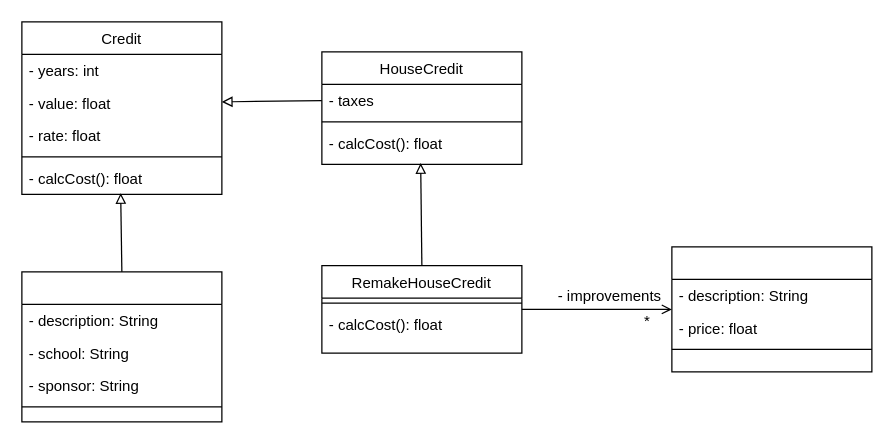
Image size: 894x444. Some labels were removed from this diagram. The box of each missing label's shape, as (x1, y1, x2, y2) in pixels:
Improvement: (671, 246, 872, 372)
StudentCredit: (21, 271, 222, 422)
